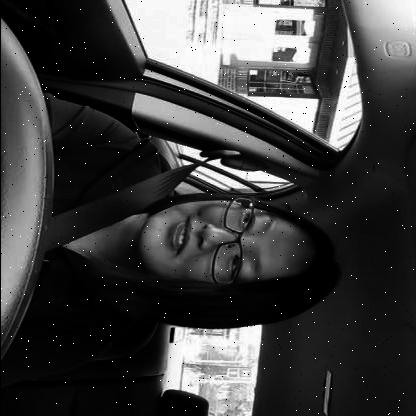seatbelt: (35, 146, 344, 330)
